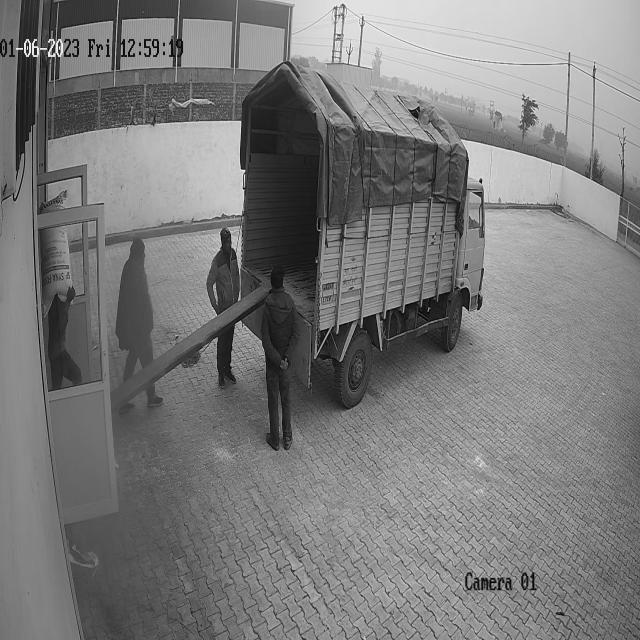sack: (38, 192, 74, 315)
